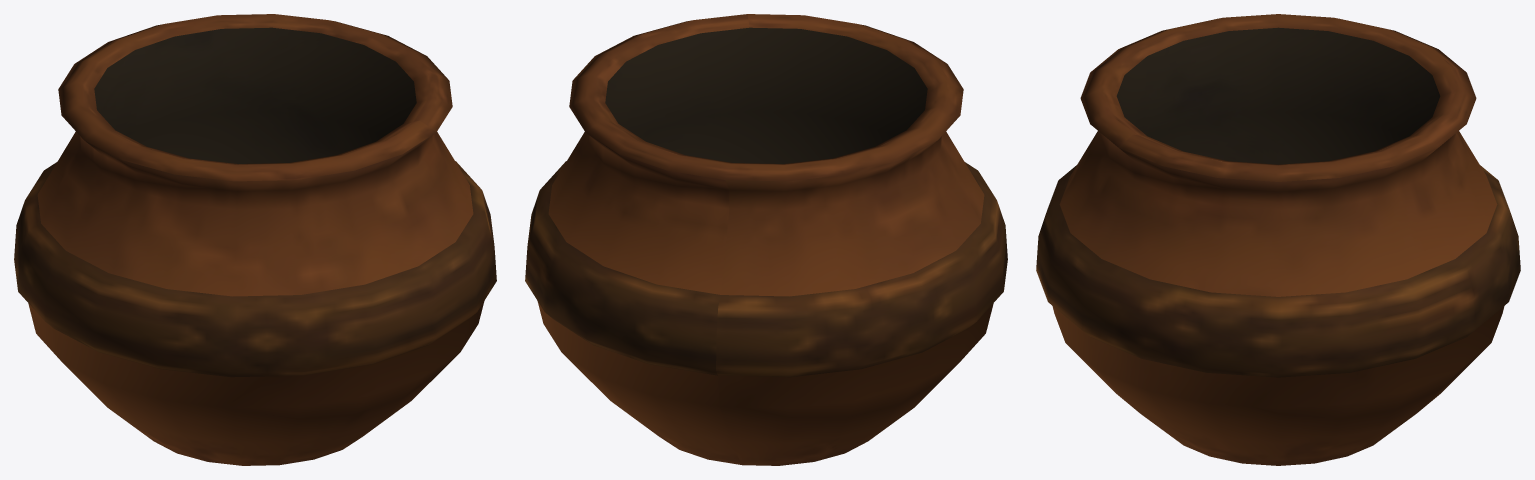
The model's file is vase_2.glb.
3 views of the same model, side by side, from view 1: azimuth 30°, elevation 25°; view 2: azimuth 150°, elevation 25°; view 3: azimuth 270°, elevation 25° (orthographic).
Visible parts, largest first — view 1: Vase_2; view 2: Vase_2; view 3: Vase_2.
Part boxes in pixels (bbox=[...]): Vase_2: bbox=[14, 14, 496, 465]; Vase_2: bbox=[525, 14, 1007, 465]; Vase_2: bbox=[1036, 14, 1520, 465].
Size of the model in its own units: 0.6947 by 0.5163 by 0.6947.
1 material, 1 textured.
